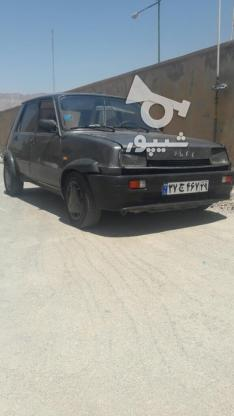car: (161, 179, 210, 196)
